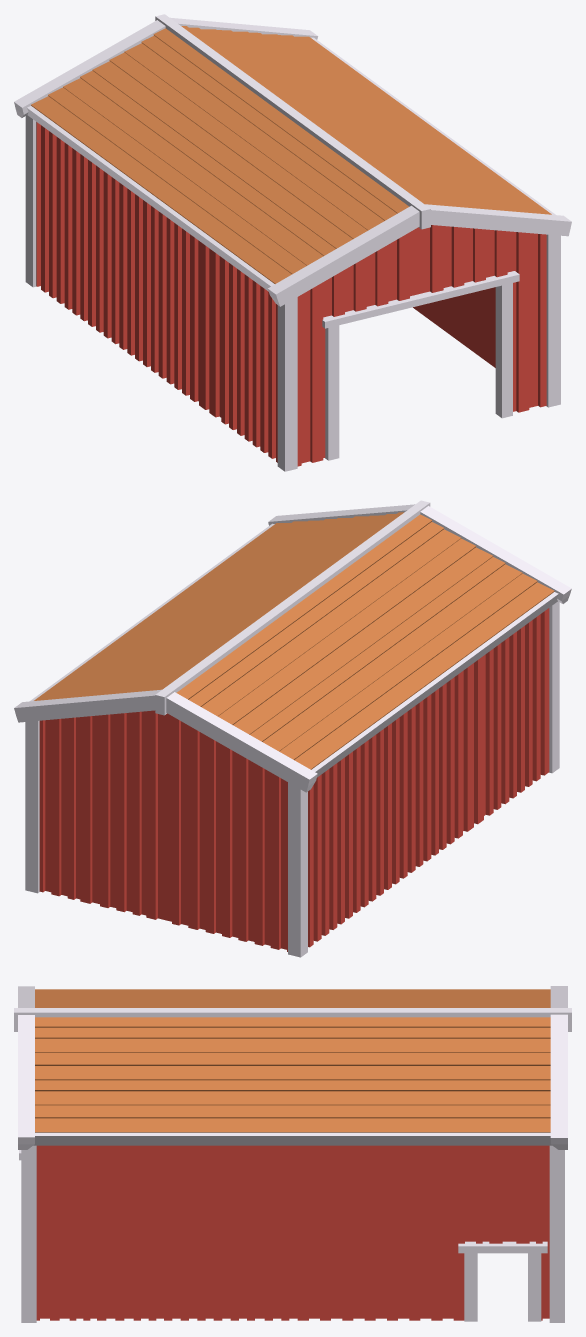
Rendered from Barn.fbx.
The picture shows the model from 3 angles, top to bottom: view 1: azimuth 30°, elevation 25°; view 2: azimuth 150°, elevation 25°; view 3: azimuth 270°, elevation 25°; orthographic projection. The views are drawn at different scales.
Parts seen in each view (by area): view 1: Cube; view 2: Cube; view 3: Cube.
Boxes of the visible parts, bbox=[...] form: Cube: bbox=[14, 14, 571, 471]; Cube: bbox=[14, 500, 571, 957]; Cube: bbox=[14, 986, 571, 1322].
Size of the model in its own units: 137 by 102 by 212.
